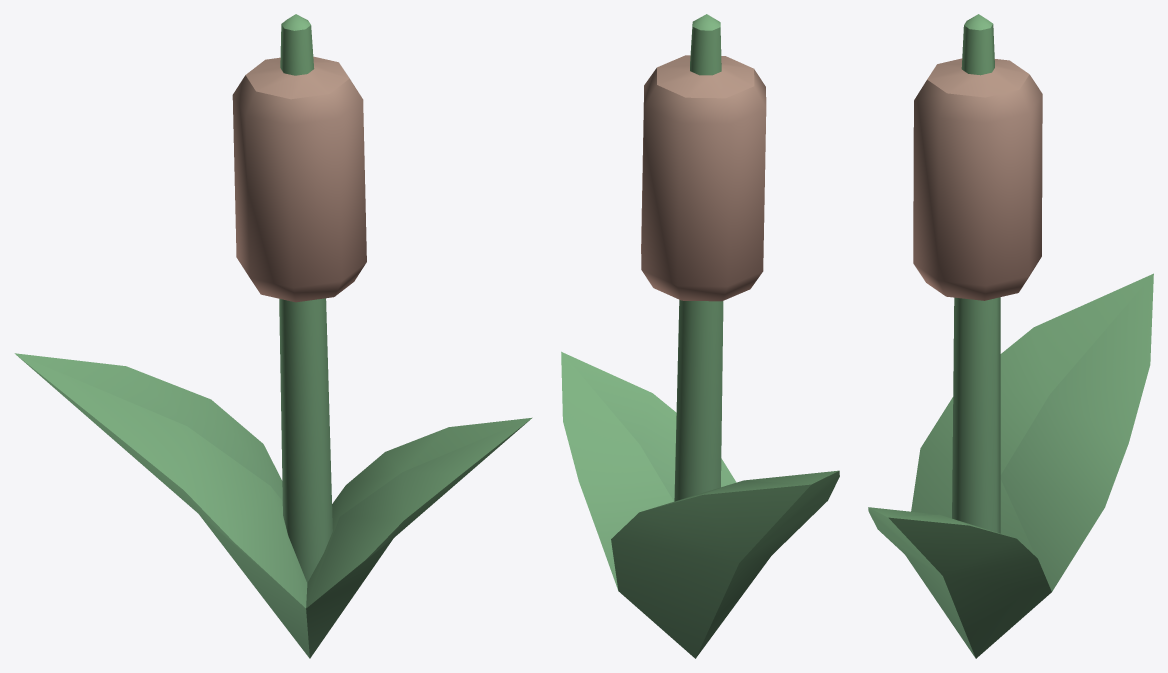
The model's file is waterplant_b.gltf.
The picture shows the model from 3 angles, left to right: view 1: azimuth 30°, elevation 25°; view 2: azimuth 150°, elevation 25°; view 3: azimuth 270°, elevation 25°; orthographic projection.
Visible parts, largest first — view 1: waterplant_b; view 2: waterplant_b; view 3: waterplant_b.
Boxes of the visible parts, <box> form: waterplant_b: <box>14,14,532,658</box>; waterplant_b: <box>561,14,839,658</box>; waterplant_b: <box>868,14,1153,658</box>.
Bounding box in the file's own units: 0.158 × 0.2542 × 0.1031.
